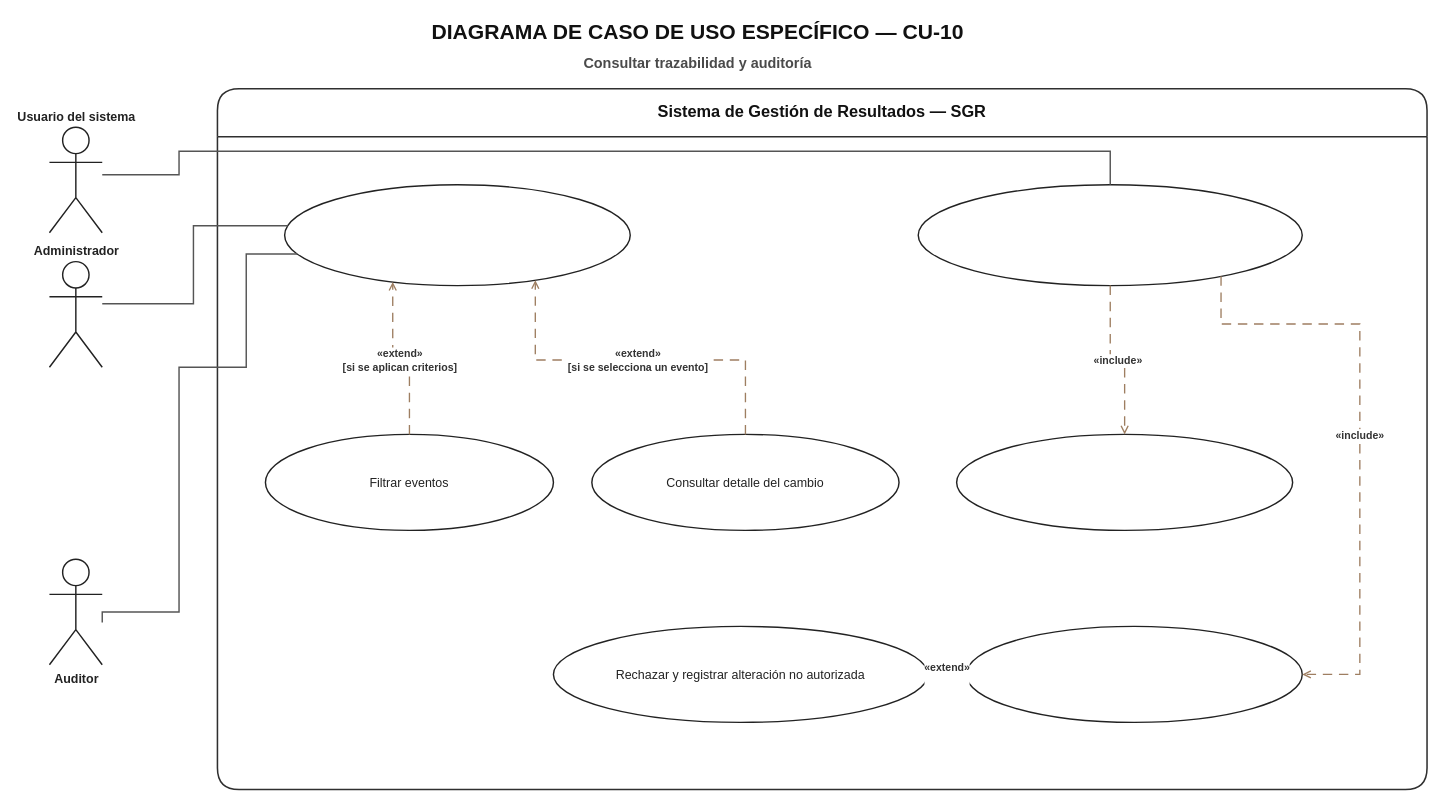
The diagram is 1444 pixels wide and 806 high, and some of its shapes have lost their labels. Each missing label, with the centre of its shape:
Capturar datos del evento: point (1124, 482)
Consultar historial de auditoría: point (457, 235)
Proteger historial contra alteración: point (1134, 674)
Registrar evento crítico automáticamente: point (1110, 235)
